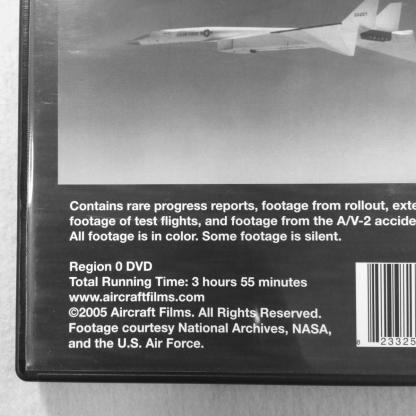XB70: (122, 2, 416, 65)
